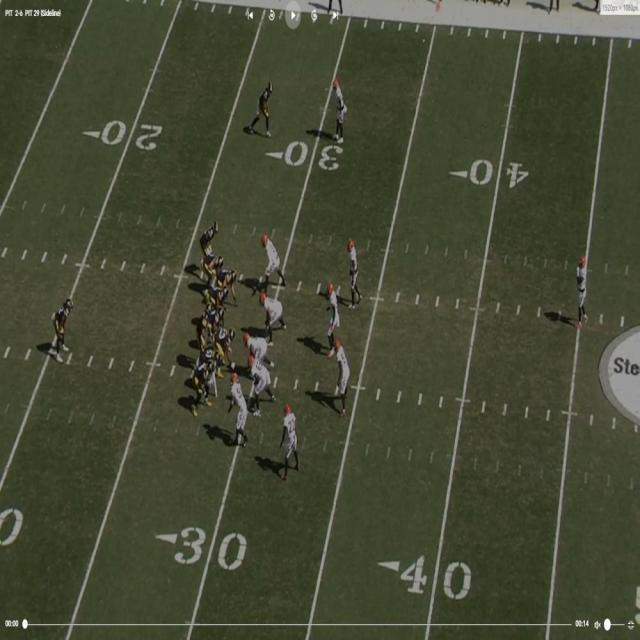center: (216, 326, 234, 371)
db: (283, 404, 297, 471), (330, 80, 344, 140), (351, 240, 362, 310), (577, 259, 586, 323)
lb: (334, 341, 352, 408), (234, 378, 249, 449), (262, 233, 282, 286), (324, 280, 338, 339)
qb: (197, 302, 211, 354)
skill: (256, 82, 275, 134), (54, 302, 71, 358), (226, 267, 242, 312), (198, 256, 225, 278), (200, 221, 219, 252)
